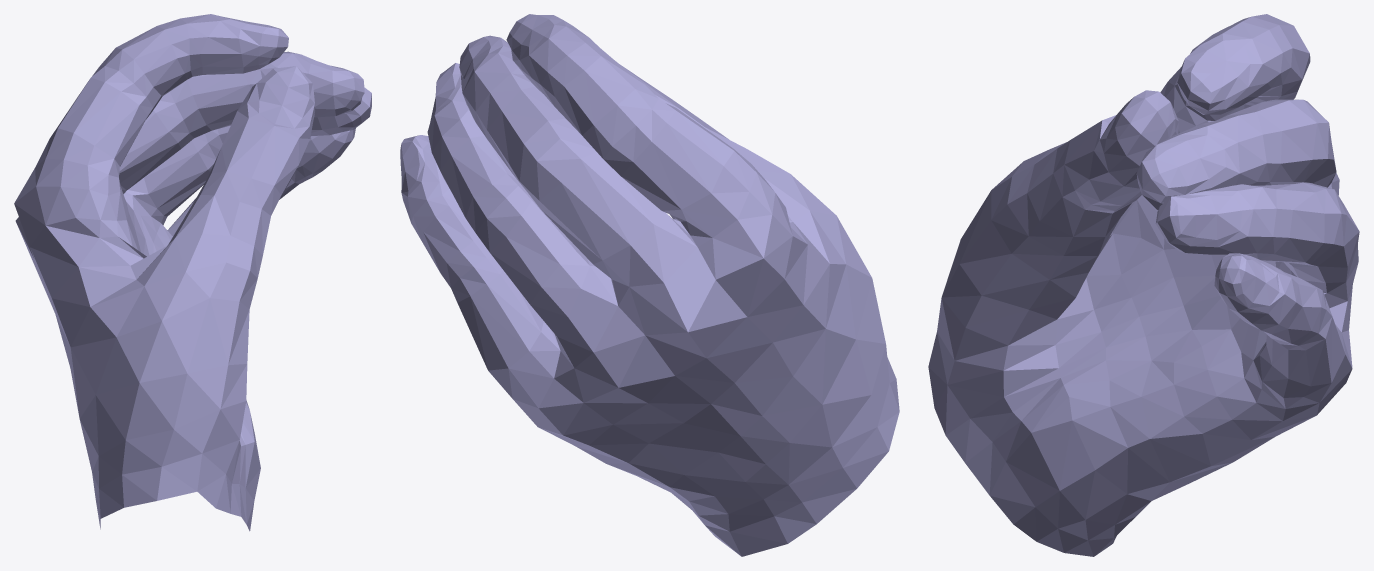
The model's file is frame_0022_source_000022_hand.glb.
3 renders of one model, left to right at view 1: azimuth 30°, elevation 25°; view 2: azimuth 150°, elevation 25°; view 3: azimuth 270°, elevation 25°, orthographic. The views are drawn at different scales.
Parts seen in each view (by area): view 1: world; view 2: world; view 3: world.
Part boxes in pixels (box(x1,y1,x2,y2)): world: box(14, 14, 371, 531); world: box(400, 14, 899, 556); world: box(928, 14, 1359, 556).
Size of the model in its own units: 0.1053 by 0.1392 by 0.0946.
